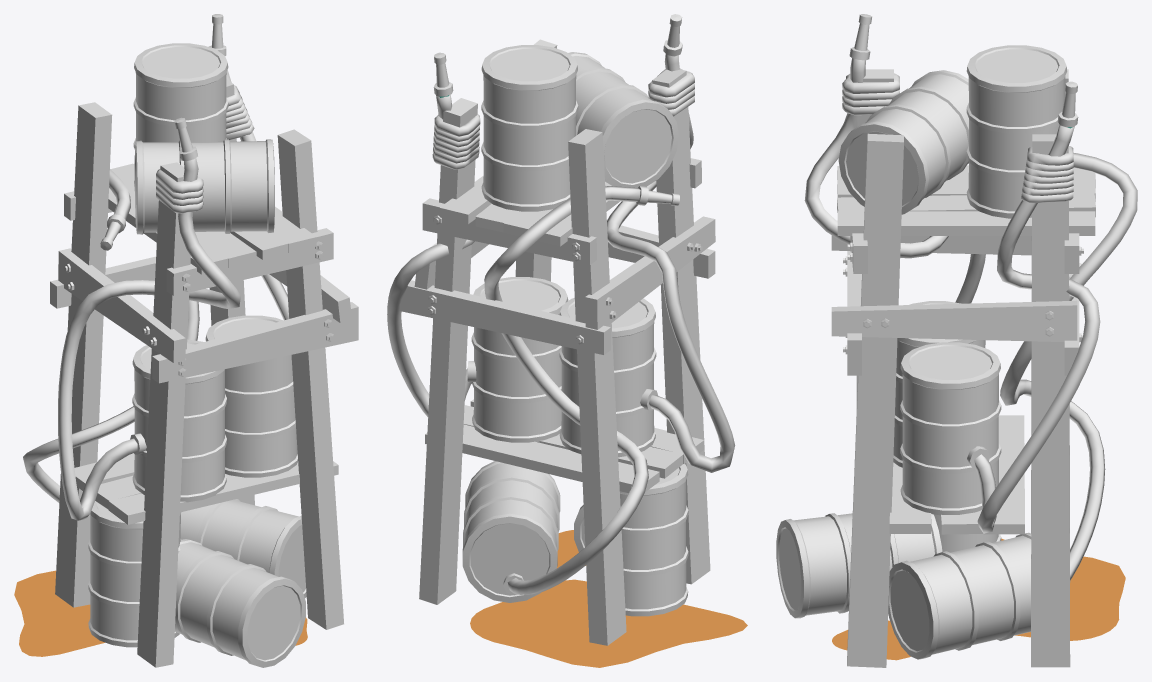
Rendered from slow tower tier 3.fbx.
3 views of the same model, side by side, from view 1: azimuth 30°, elevation 25°; view 2: azimuth 150°, elevation 25°; view 3: azimuth 270°, elevation 25° (orthographic). The views are drawn at different scales.
Parts seen in each view (by area): view 1: Cube.430; view 2: Cube.430; view 3: Cube.430.
Part boxes in pixels (bbox=[...]): Cube.430: bbox=[14, 14, 358, 667]; Cube.430: bbox=[387, 14, 747, 667]; Cube.430: bbox=[776, 14, 1137, 667].
Size of what is drawn, in the model's own units: 594 by 976 by 556.
